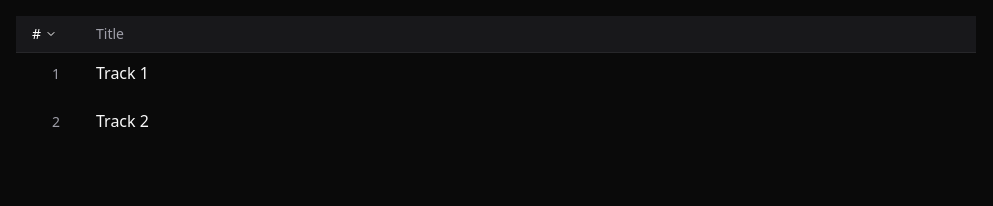
Test: PlaylistTrackList row interactions › keeps desktop click as selection instead of playback
Click the element with test id "playlist-track-row-desktop" showing "1 Track 1".
click(100, 73)  # box 52,62 -> 149,84
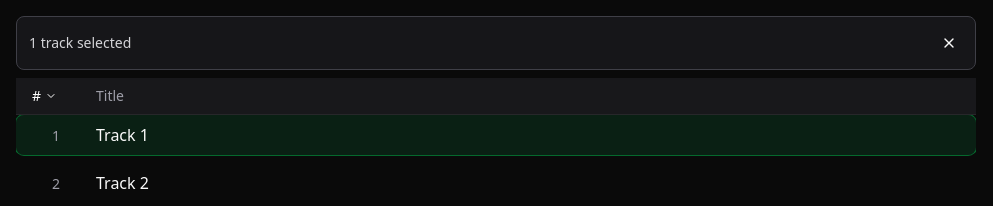
Expected: the text "1 track selected" is shown, 29,33 -> 131,53
